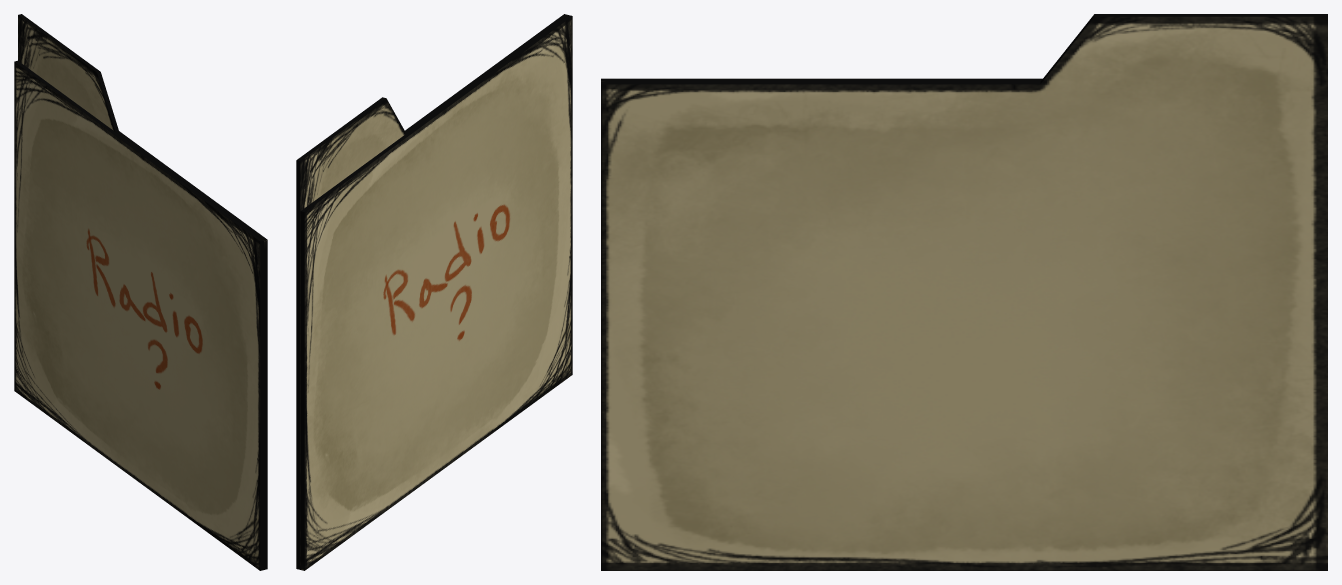
File: folder_radio.fbx
3 views of the same model, side by side, from view 1: azimuth 30°, elevation 25°; view 2: azimuth 150°, elevation 25°; view 3: azimuth 270°, elevation 25° (orthographic). The views are drawn at different scales.
Visible parts, largest first — view 1: folder_front.008, folder_radio; view 2: folder_front.008, folder_radio; view 3: folder_radio, folder_front.008.
Part boxes in pixels (x1,y1,x2,y2): folder_front.008: (14,60,263,570); folder_radio: (18,14,267,569); folder_front.008: (300,15,572,570); folder_radio: (296,14,567,569); folder_radio: (601,14,1327,570); folder_front.008: (601,78,1042,81).
Bounding box in the file's own units: 1.13 × 53.74 × 63.85.
2 materials, 2 textured.
